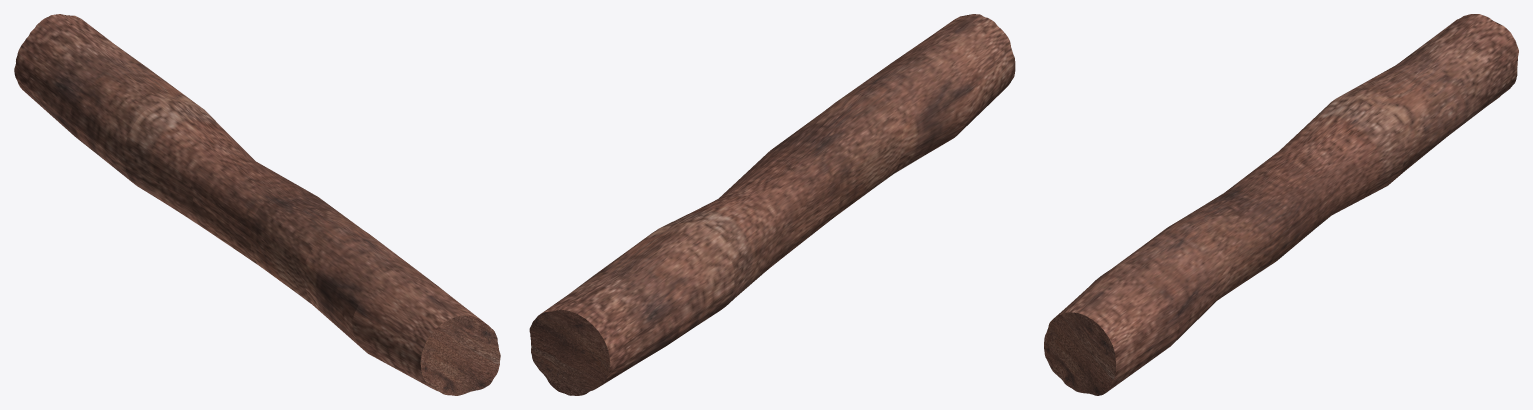
The model's file is branch3.fbx.
The picture shows the model from 3 angles, left to right: view 1: azimuth 30°, elevation 25°; view 2: azimuth 150°, elevation 25°; view 3: azimuth 330°, elevation 25°; orthographic projection. The views are drawn at different scales.
Visible parts, largest first — view 1: Cylinder; view 2: Cylinder; view 3: Cylinder.
Part boxes in pixels (bbox=[...]): Cylinder: bbox=[14, 14, 500, 395]; Cylinder: bbox=[529, 14, 1015, 395]; Cylinder: bbox=[1044, 14, 1518, 395].
Bounding box in the file's own units: 26.5 × 25.23 × 204.
